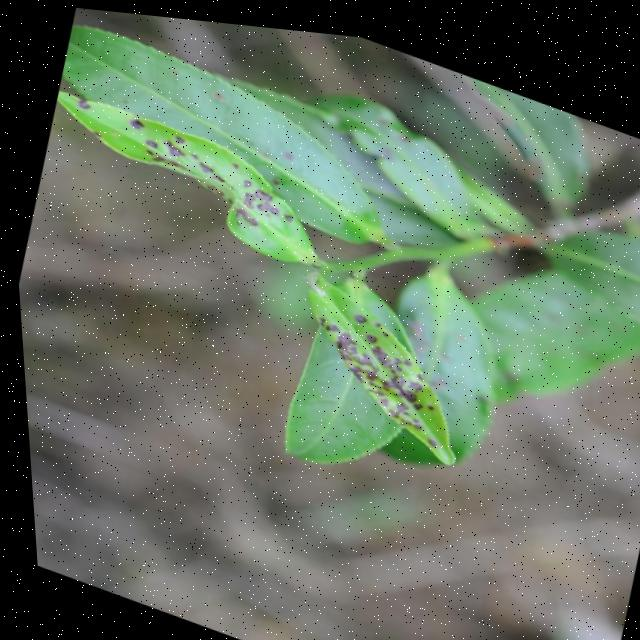Tea red scab: (64, 94, 299, 233), (286, 285, 468, 429)
